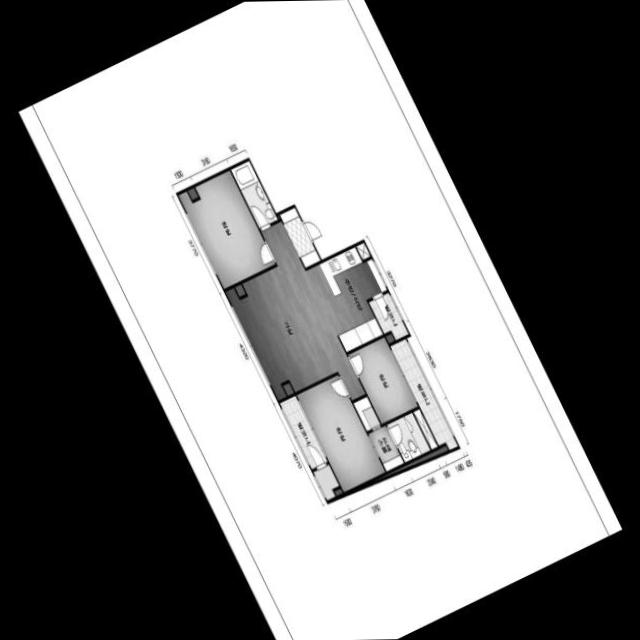background: (18, 0, 622, 640)
space_balconi: (390, 338, 457, 449), (279, 395, 327, 469), (368, 292, 408, 340)
space_bedroom: (178, 170, 275, 289), (296, 374, 385, 491), (347, 336, 417, 423)
space_dressroom: (353, 396, 404, 472)
space_front: (279, 207, 320, 267)
space_kitchen: (305, 246, 387, 351)
space_living_room: (225, 221, 365, 399)
space_other: (413, 408, 437, 449), (312, 464, 339, 500), (356, 242, 370, 260), (187, 187, 198, 200), (282, 382, 293, 395), (234, 284, 245, 296), (385, 334, 394, 343), (334, 489, 342, 495), (277, 215, 279, 218)
space_toilet: (230, 160, 277, 228), (386, 412, 430, 462)
